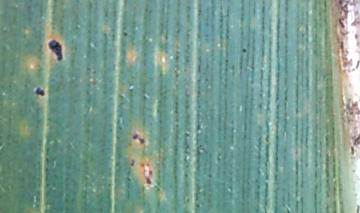tarspot: (48, 40, 63, 63), (35, 86, 45, 99), (129, 159, 136, 169), (131, 133, 140, 140), (139, 136, 145, 146), (145, 178, 152, 186), (139, 161, 146, 168), (147, 168, 153, 176), (122, 31, 128, 38), (241, 48, 247, 53)
